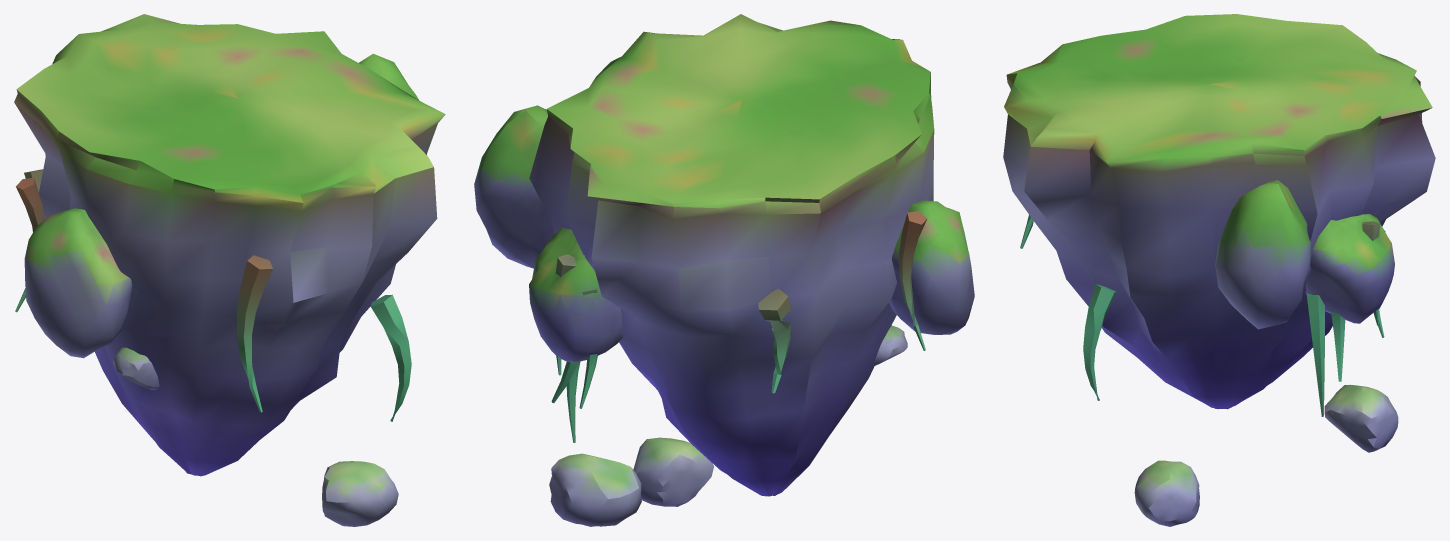
The model's file is verdant_island_12_b.glb.
3 renders of one model, left to right at view 1: azimuth 30°, elevation 25°; view 2: azimuth 150°, elevation 25°; view 3: azimuth 270°, elevation 25°, orthographic. The views are drawn at different scales.
Visible parts, largest first — view 1: verdant_island_12_b, Floater_2, Floater_0; view 2: verdant_island_12_b, Floater_1, Floater_2, Floater_0; view 3: verdant_island_12_b, Floater_2, Floater_1.
Boxes of the visible parts, bbox=[...] form: verdant_island_12_b: bbox=[14, 14, 445, 476]; Floater_2: bbox=[322, 461, 398, 526]; Floater_0: bbox=[112, 347, 159, 390]; verdant_island_12_b: bbox=[474, 14, 974, 496]; Floater_1: bbox=[549, 453, 641, 526]; Floater_2: bbox=[633, 437, 713, 506]; Floater_0: bbox=[874, 325, 907, 365]; verdant_island_12_b: bbox=[1003, 14, 1435, 416]; Floater_2: bbox=[1134, 460, 1199, 526]; Floater_1: bbox=[1324, 384, 1398, 452].
Bounding box in the file's own units: 12.79 × 12.29 × 12.19.
